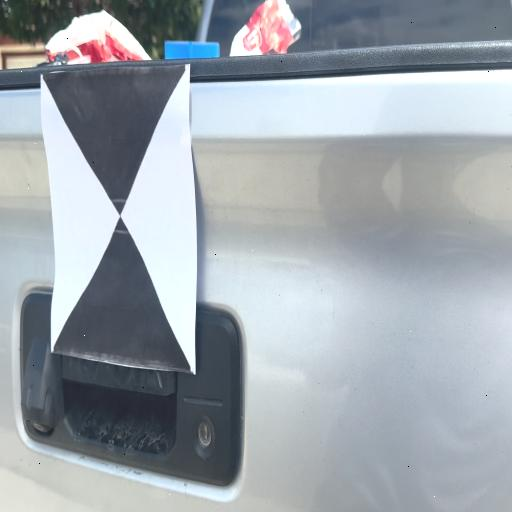target: (42, 74, 196, 373)
